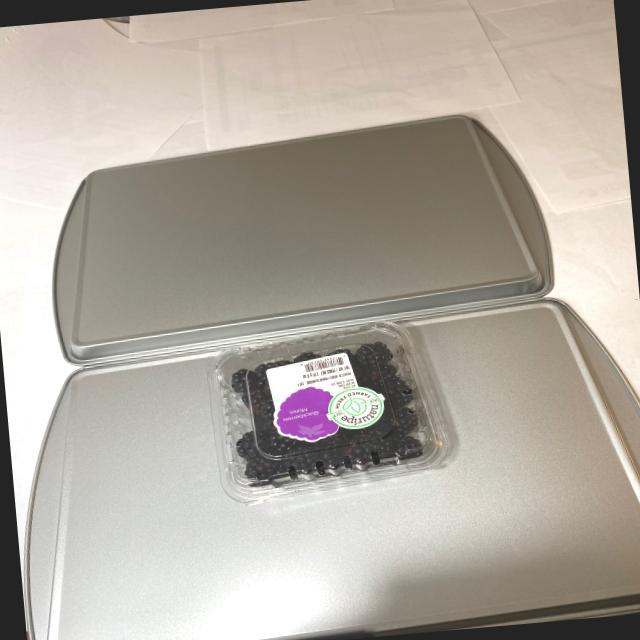blackberries: (216, 318, 450, 488)
